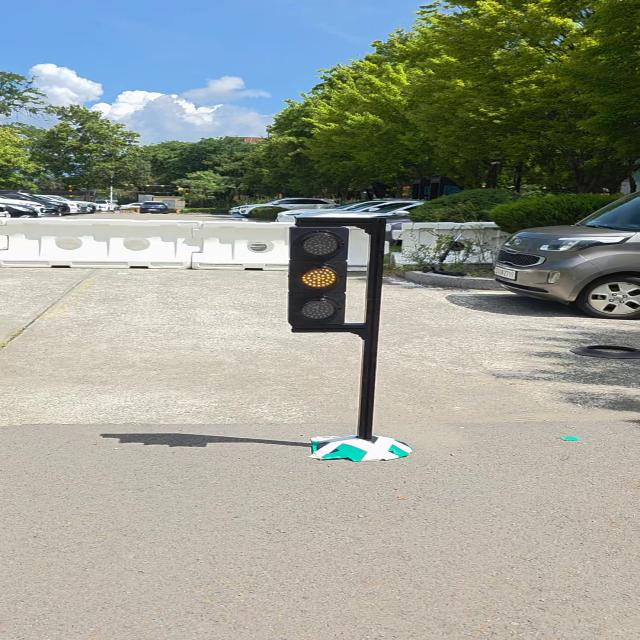yellow: (290, 228, 346, 327)
